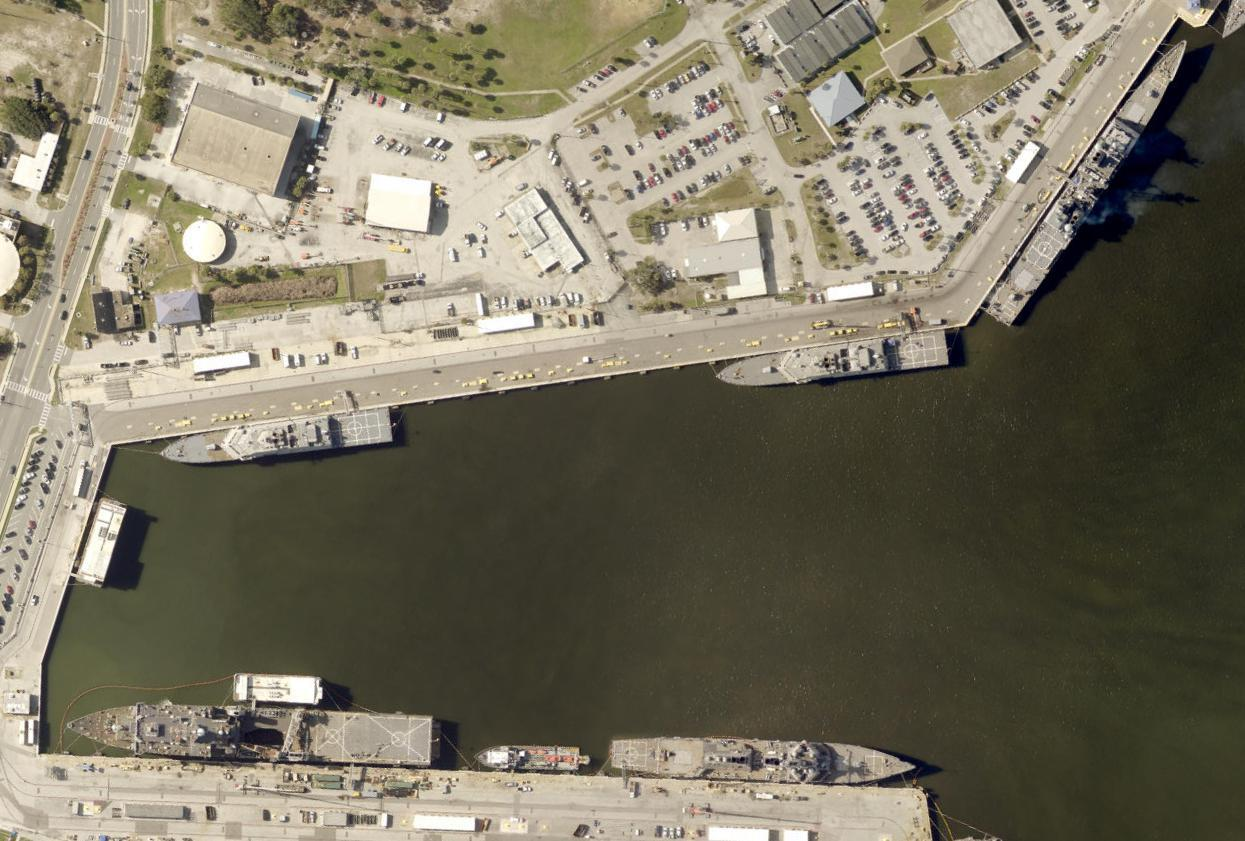amphiby: (52, 700, 451, 773)
cruiser: (979, 34, 1195, 336)
fregate: (599, 736, 924, 789)
patrol: (713, 322, 955, 393), (156, 401, 404, 468)
